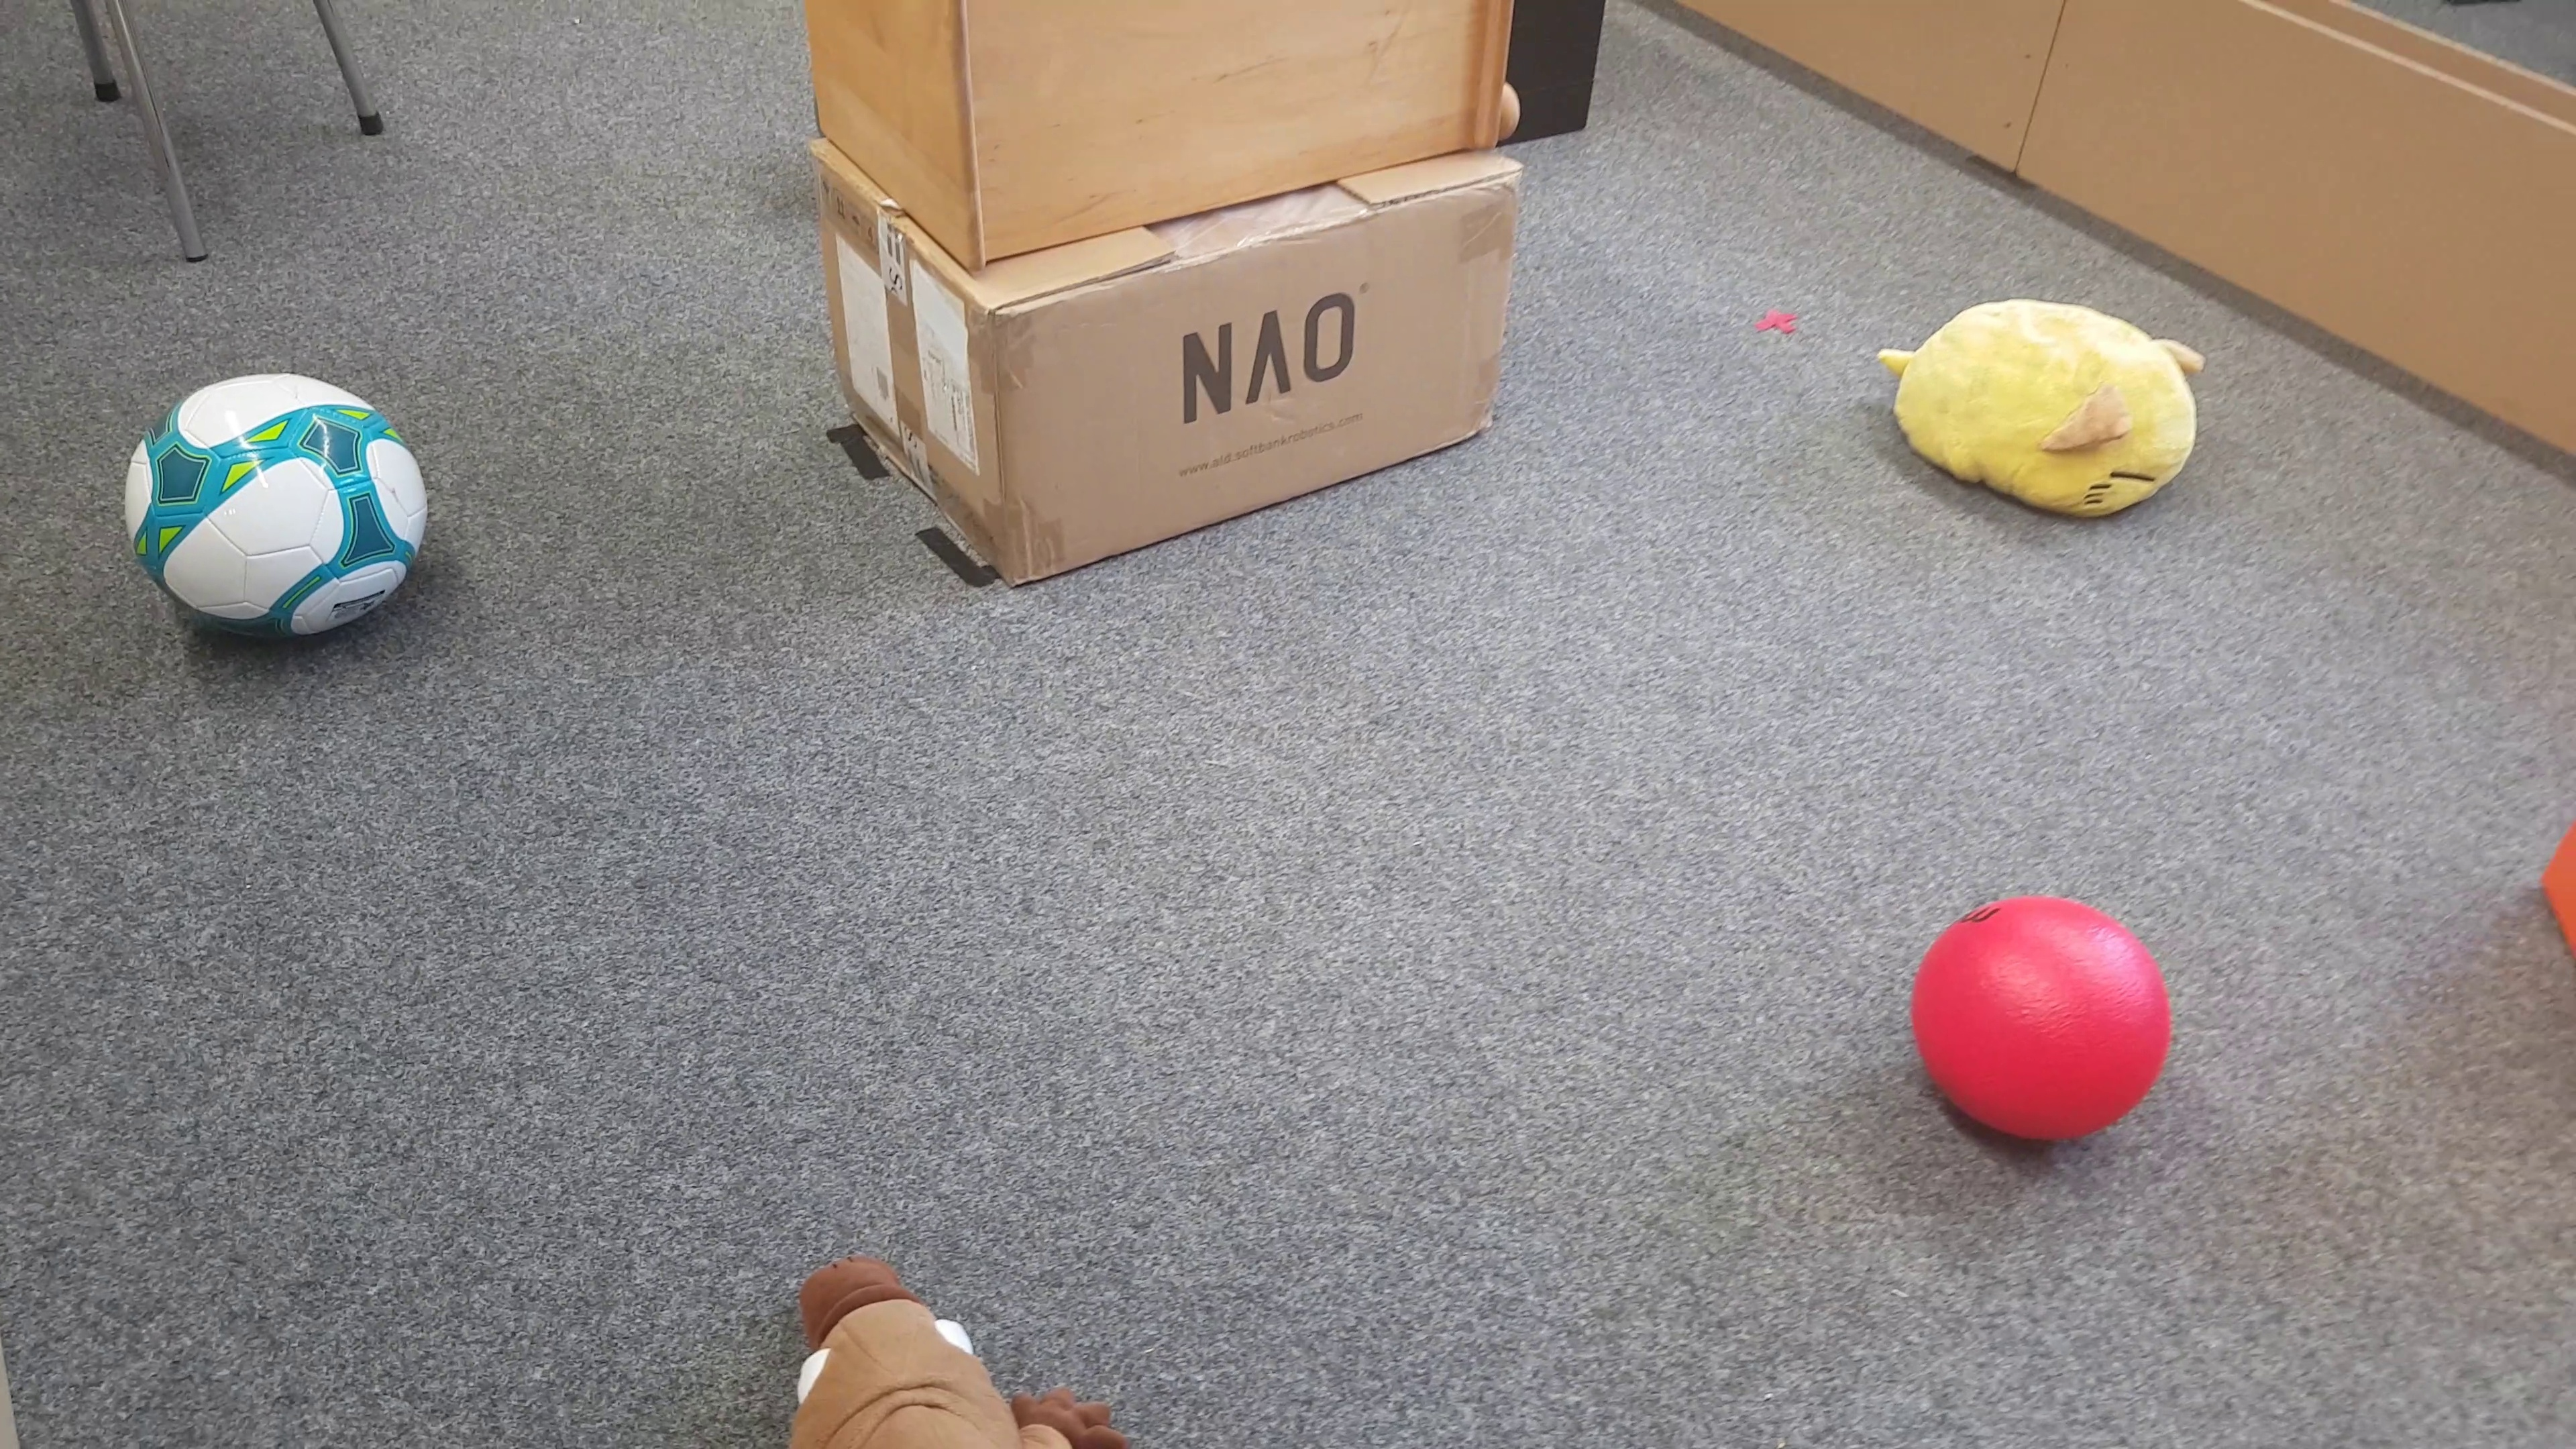grasp: (1870, 299, 2203, 522), (782, 1267, 1118, 1449)
kick: (122, 372, 432, 653), (1911, 897, 2176, 1146)
